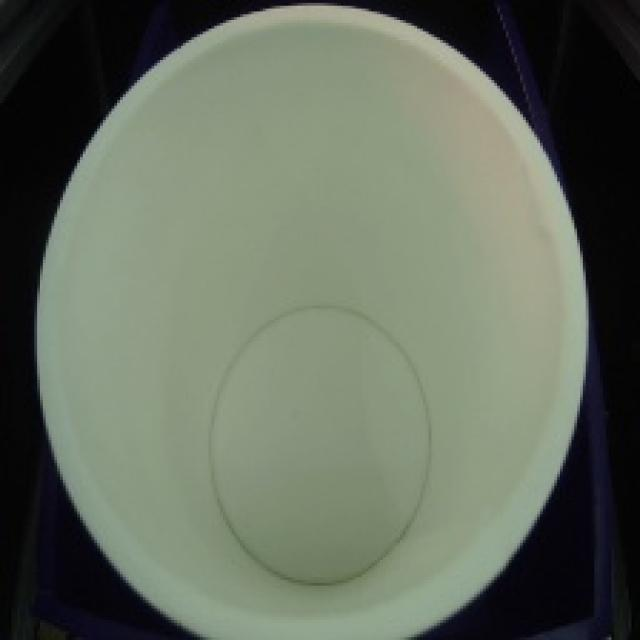cups: (25, 0, 597, 640)
